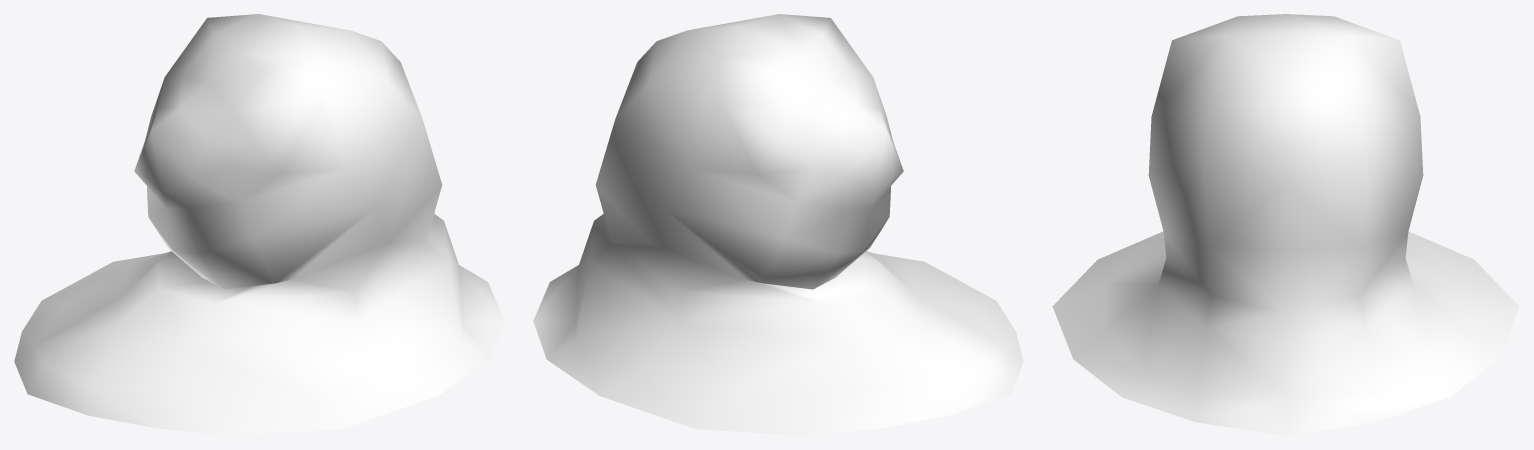
File: mon_f_attack.FBX
The picture shows the model from 3 angles, left to right: view 1: azimuth 30°, elevation 25°; view 2: azimuth 150°, elevation 25°; view 3: azimuth 270°, elevation 25°; orthographic projection.
Visible parts, largest first — view 1: L001; view 2: L001; view 3: L001.
Boxes of the visible parts, box(x1,y1,x2,y2) form: L001: box(14, 14, 504, 435); L001: box(533, 14, 1023, 435); L001: box(1052, 14, 1519, 435).
Size of the model in its own units: 321 by 277 by 201.
